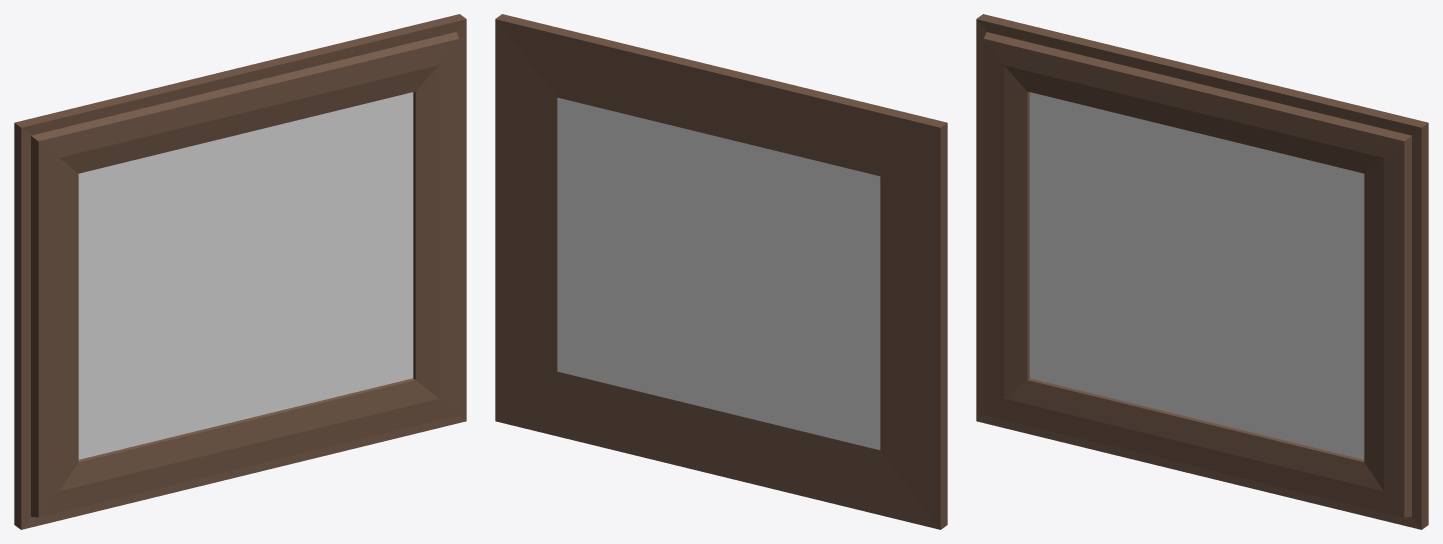
File: Painting.fbx
The picture shows the model from 3 angles, left to right: view 1: azimuth 30°, elevation 25°; view 2: azimuth 150°, elevation 25°; view 3: azimuth 330°, elevation 25°; orthographic projection.
Parts seen in each view (by area): view 1: pCube2, pCube1; view 2: pCube1, pCube2; view 3: pCube2, pCube1.
Boxes of the visible parts, x1,y1,x2,y2 form: pCube2: (78, 92, 413, 459); pCube1: (14, 14, 466, 529); pCube1: (495, 14, 947, 529); pCube2: (557, 97, 880, 450); pCube2: (1029, 92, 1364, 459); pCube1: (976, 14, 1428, 529).
Bounding box in the file's own units: 9.45 × 8.15 × 0.4458.
